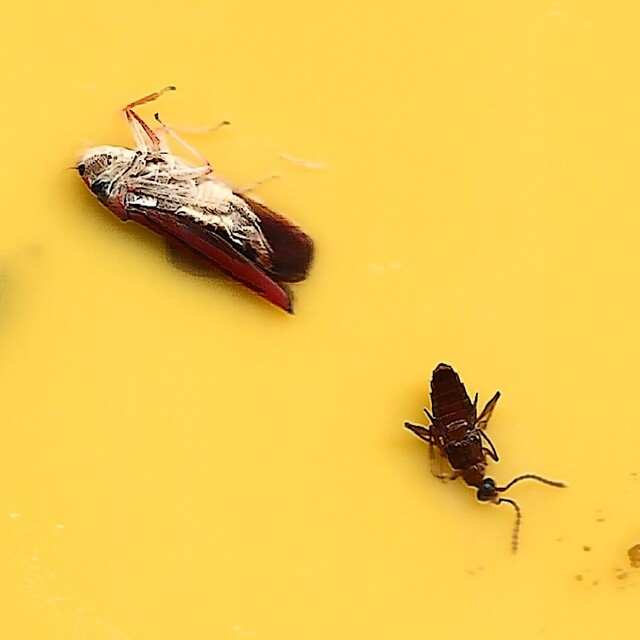Coleoptera: (400, 358, 565, 557)
Hemiptera: (75, 83, 315, 317)
